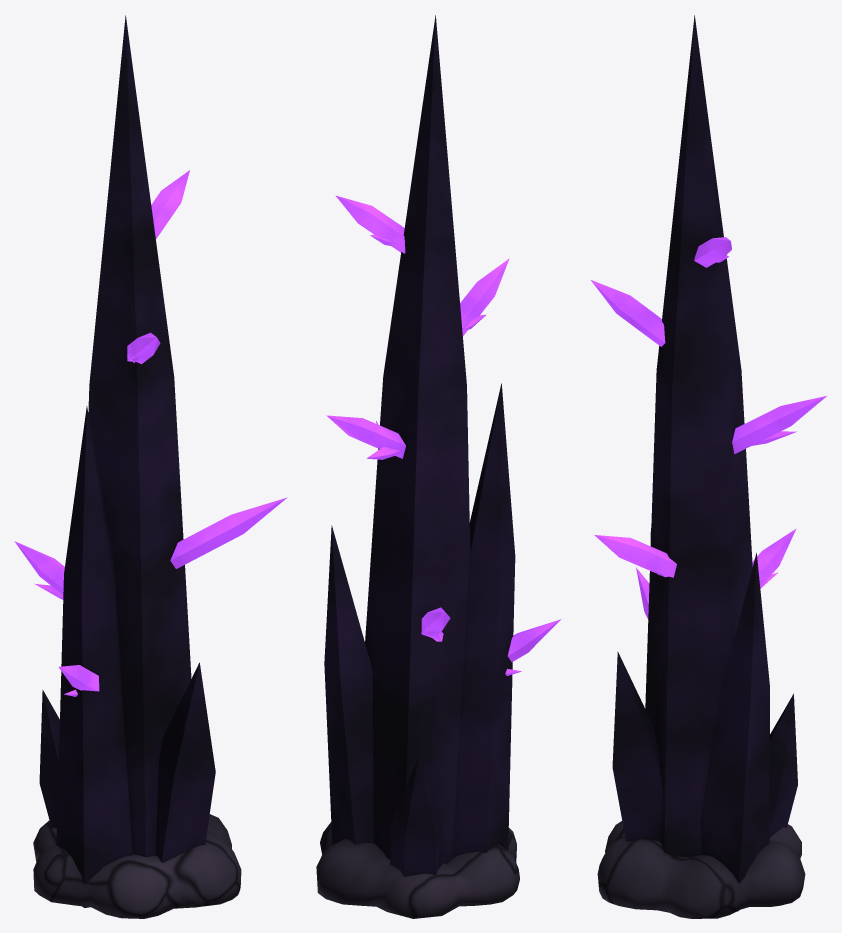
Rendered from roca_alien_b.fbx.
3 renders of one model, left to right at view 1: azimuth 30°, elevation 25°; view 2: azimuth 150°, elevation 25°; view 3: azimuth 270°, elevation 25°, orthographic.
Parts seen in each view (by area): view 1: aguja, pie, cristales_neon; view 2: aguja, pie, cristales_neon; view 3: aguja, pie, cristales_neon.
Boxes of the visible parts, x1,y1,x2,y2 form: aguja: (39,15,215,907); pie: (33,814,241,918); cristales_neon: (14,170,287,696); aguja: (324,15,515,876); pie: (316,822,519,918); cristales_neon: (326,195,561,675); aguja: (612,15,797,911); pie: (597,821,805,918); cristales_neon: (591,237,827,619).
Bounding box in the file's own units: 2 × 8 × 2.
Materials: 1 (1 with a texture image).
